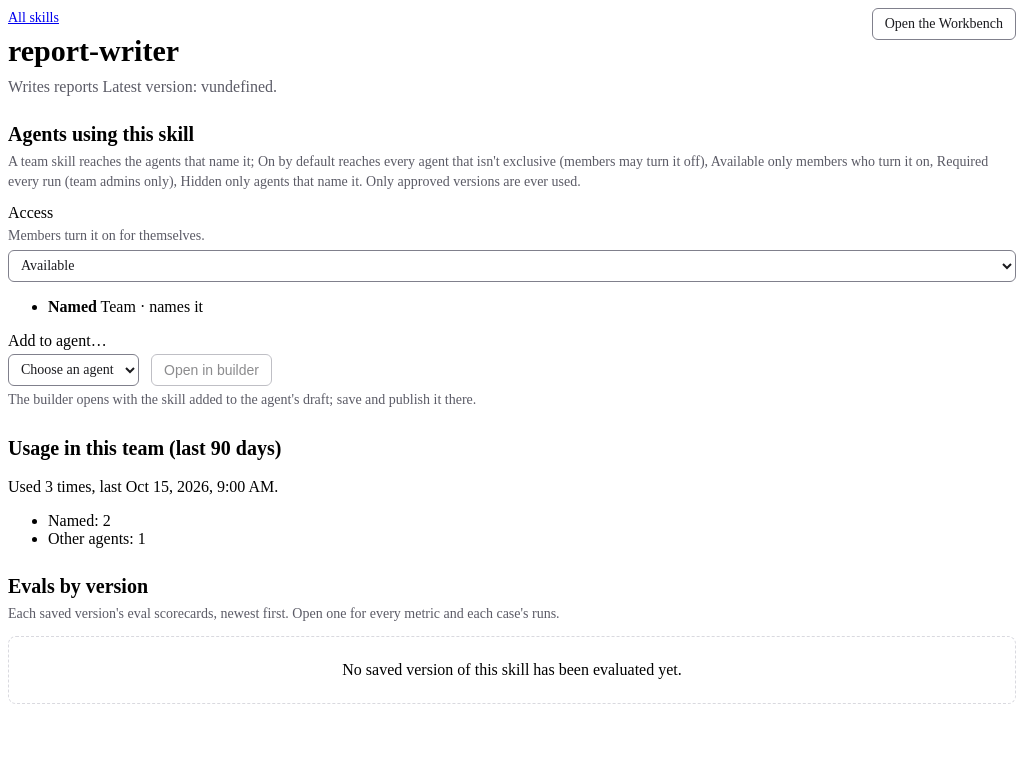
Test: team skill reach (KOBE-297) › shows the server's refusal when the team already has the most skills on for everyone
Select "On by default" in the dropdown labelled "Access": (512, 266) [8, 250, 1016, 282]
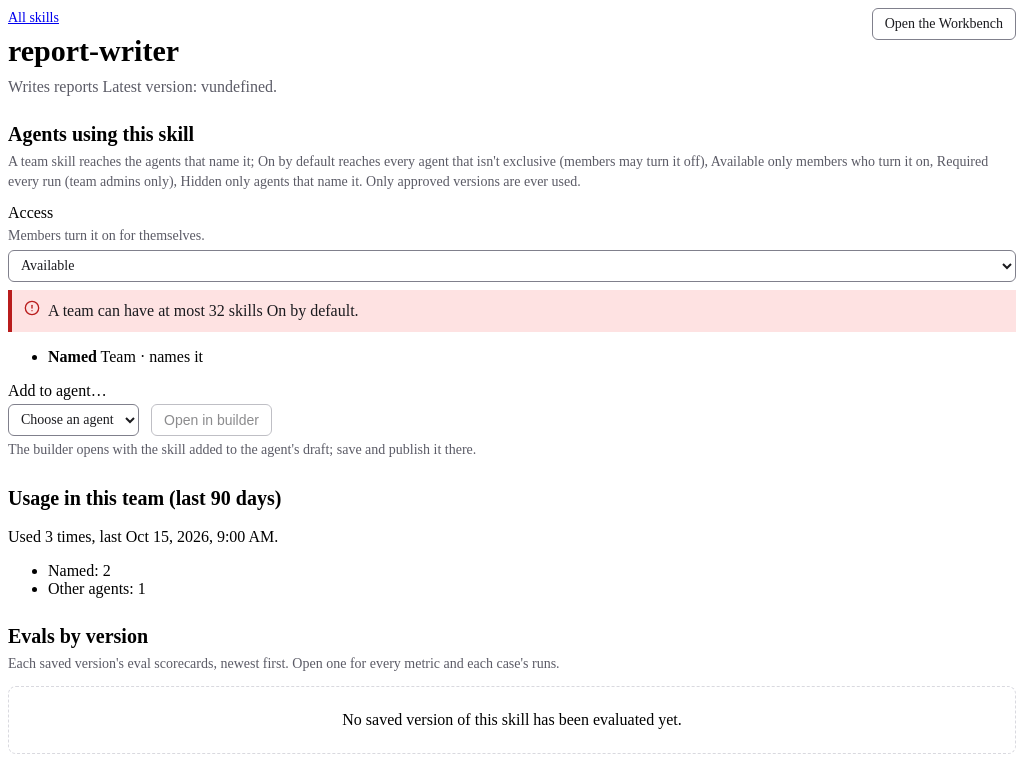
Expected: the message shows "at most 32 skills", [48, 302, 359, 318]
